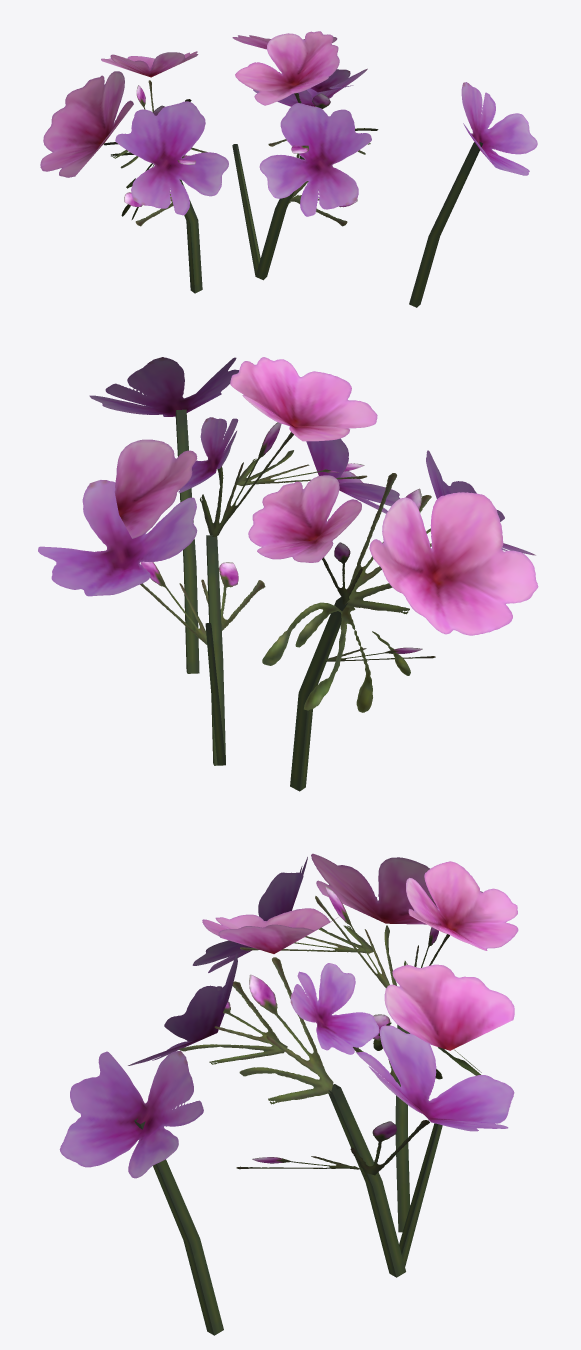
Rendered from scene_lawennushandao_zhiwu08.FBX.
3 renders of one model, top to bottom at view 1: azimuth 30°, elevation 25°; view 2: azimuth 150°, elevation 25°; view 3: azimuth 270°, elevation 25°, orthographic. The views are drawn at different scales.
Parts seen in each view (by area): view 1: scene_lawennushandao_zhiwu08; view 2: scene_lawennushandao_zhiwu08; view 3: scene_lawennushandao_zhiwu08.
Part boxes in pixels (bbox=[...]): scene_lawennushandao_zhiwu08: bbox=[40, 31, 537, 307]; scene_lawennushandao_zhiwu08: bbox=[38, 357, 538, 791]; scene_lawennushandao_zhiwu08: bbox=[59, 853, 518, 1335].
Size of the model in its own units: 114 by 70.23 by 93.97.
